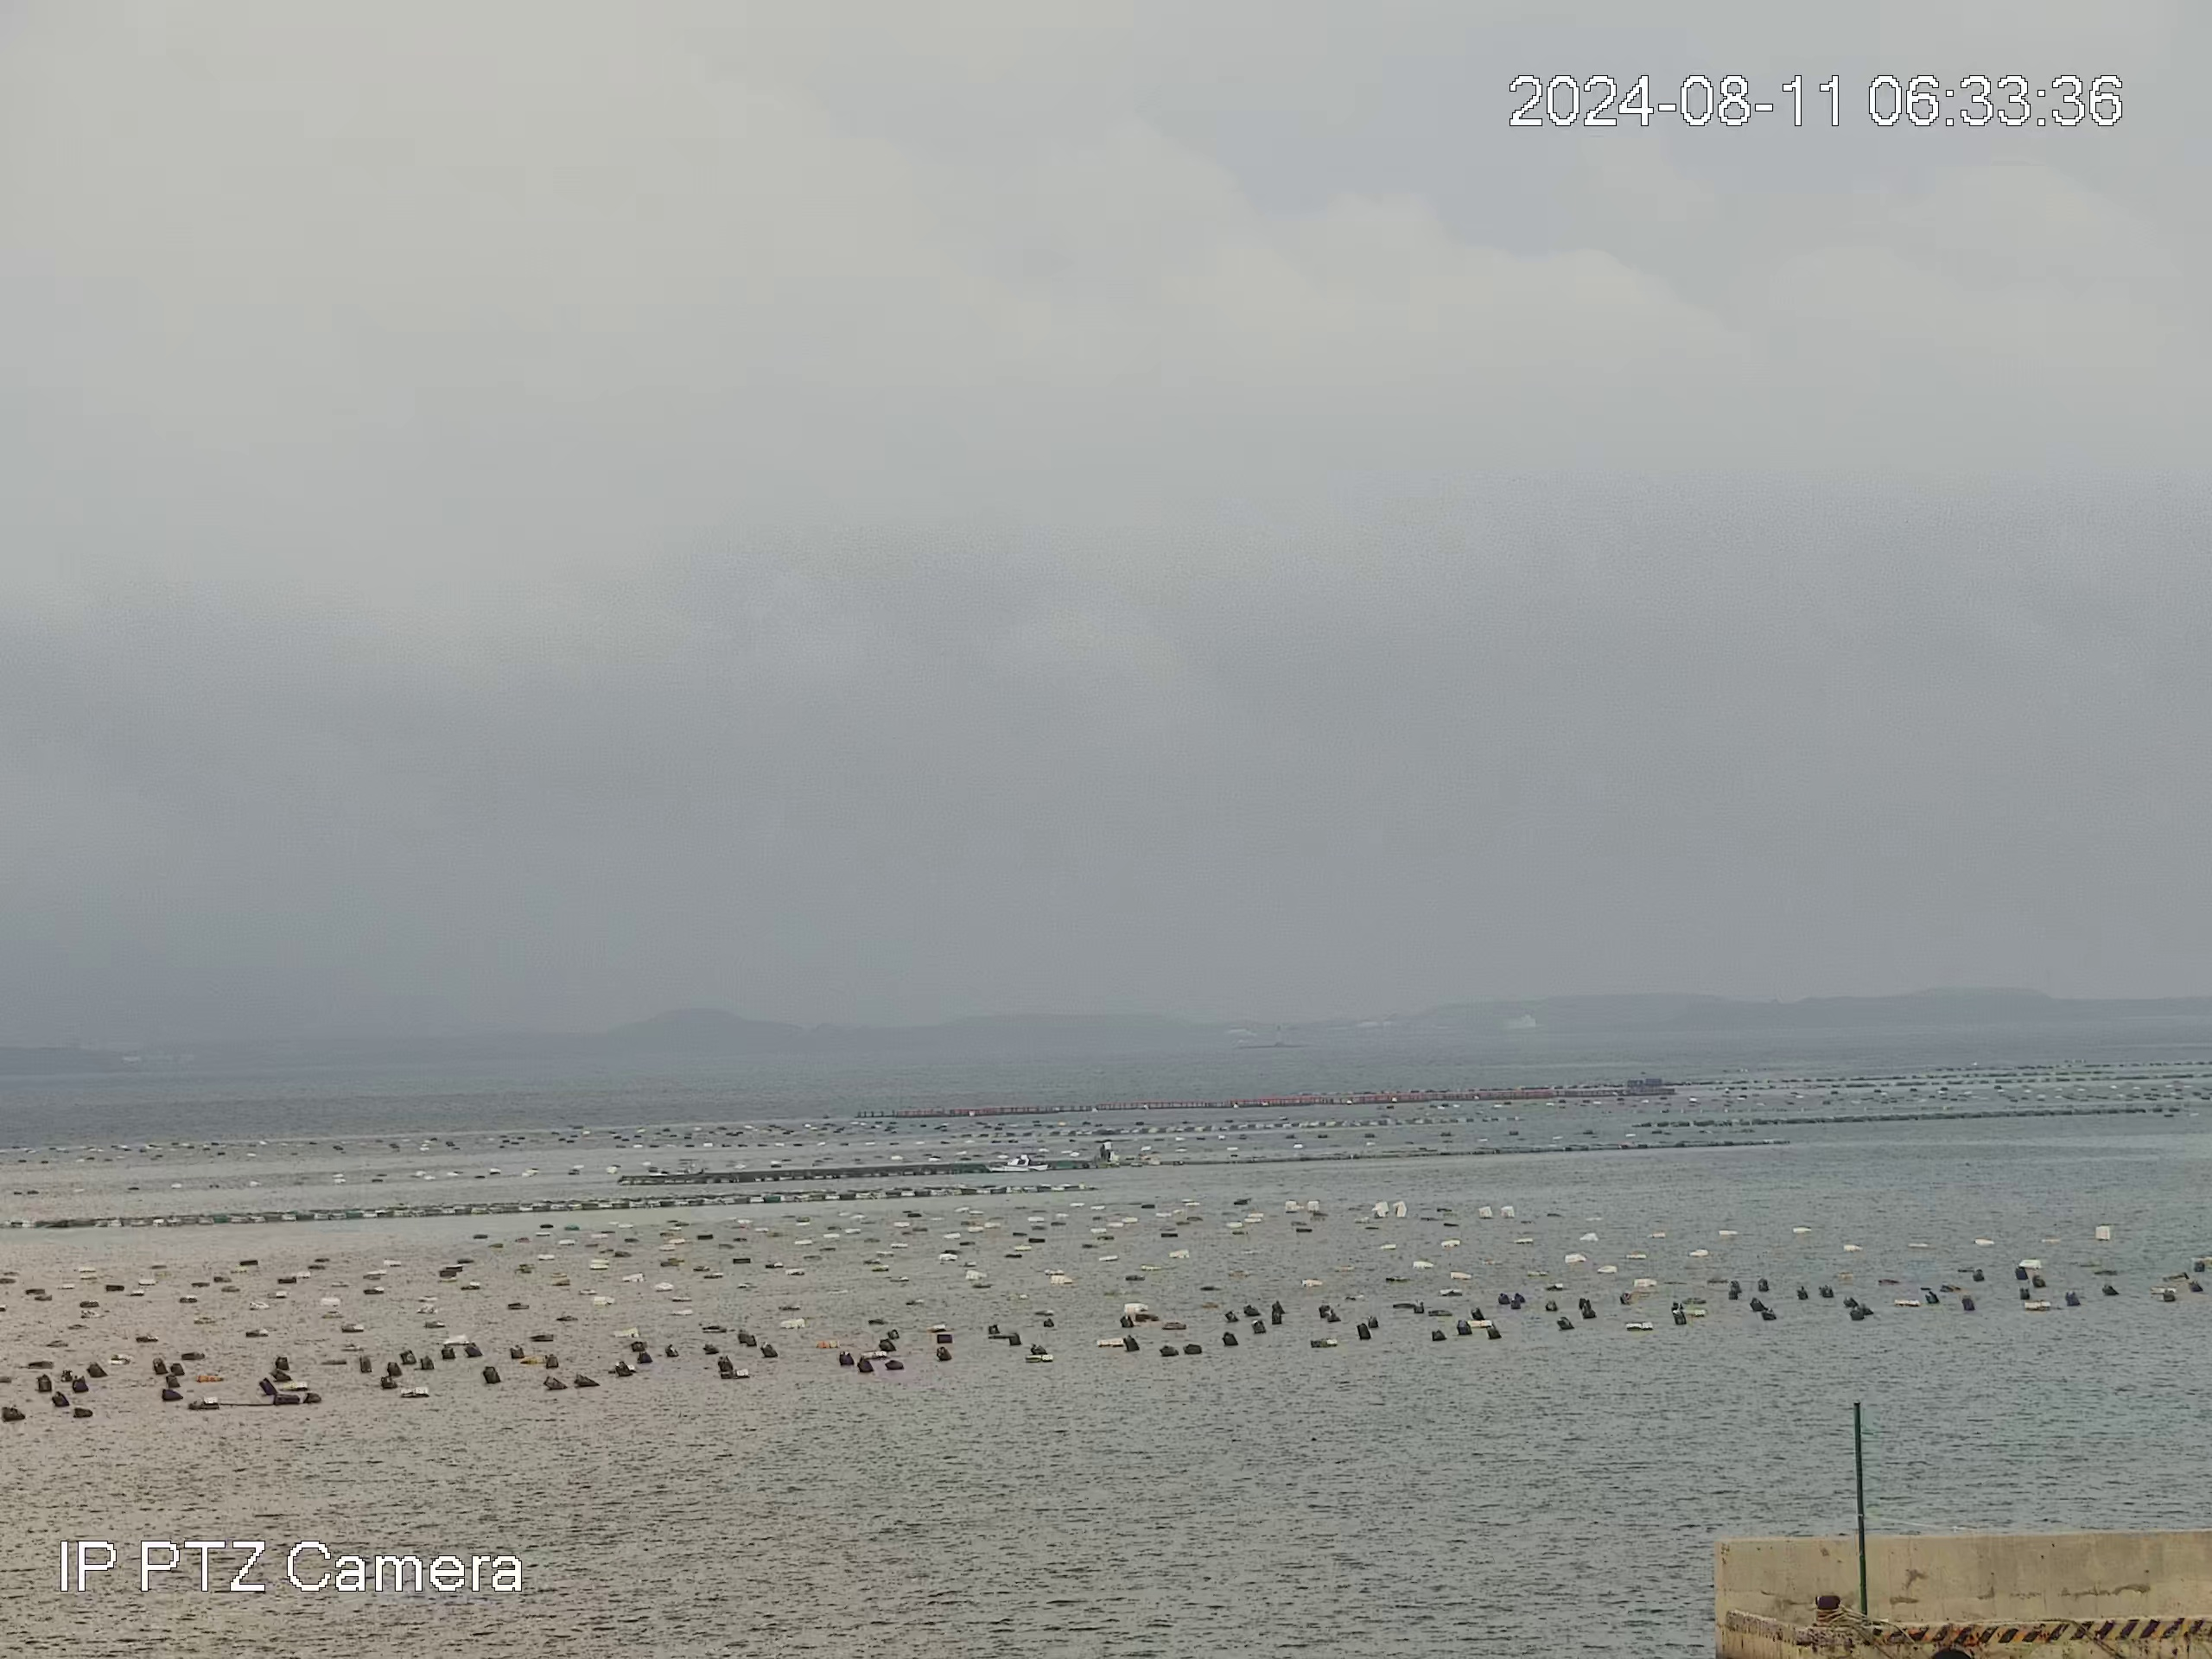boat: (982, 1150, 1050, 1173)
